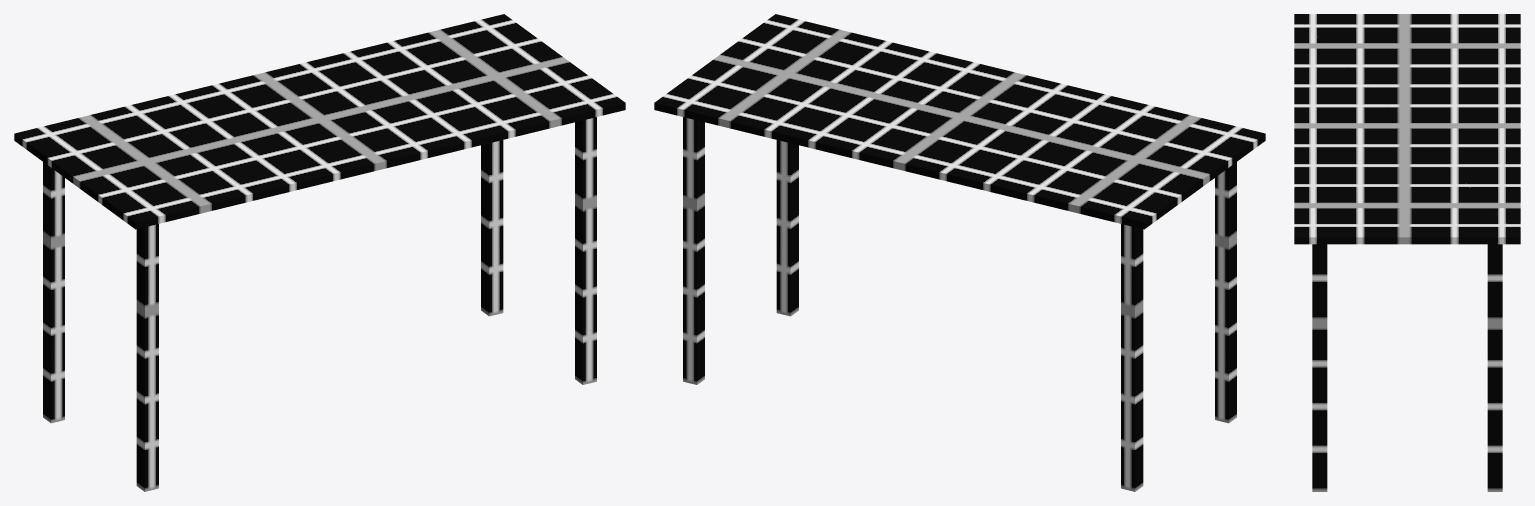
Rendered from table.fbx.
3 renders of one model, left to right at view 1: azimuth 30°, elevation 25°; view 2: azimuth 150°, elevation 25°; view 3: azimuth 270°, elevation 25°, orthographic. The views are drawn at different scales.
Visible parts, largest first — view 1: TableTop, TableLegs; view 2: TableTop, TableLegs; view 3: TableTop, TableLegs.
Boxes of the visible parts, x1=… form: TableTop: x1=14, y1=14, x2=625, y2=229; TableLegs: x1=43, y1=117, x2=596, y2=491; TableTop: x1=654, y1=14, x2=1265, y2=229; TableLegs: x1=683, y1=117, x2=1236, y2=491; TableTop: x1=1294, y1=14, x2=1520, y2=244; TableLegs: x1=1312, y1=244, x2=1502, y2=491.
Size of what is drawn, in the model's own units: 140 by 60 by 76.87.
